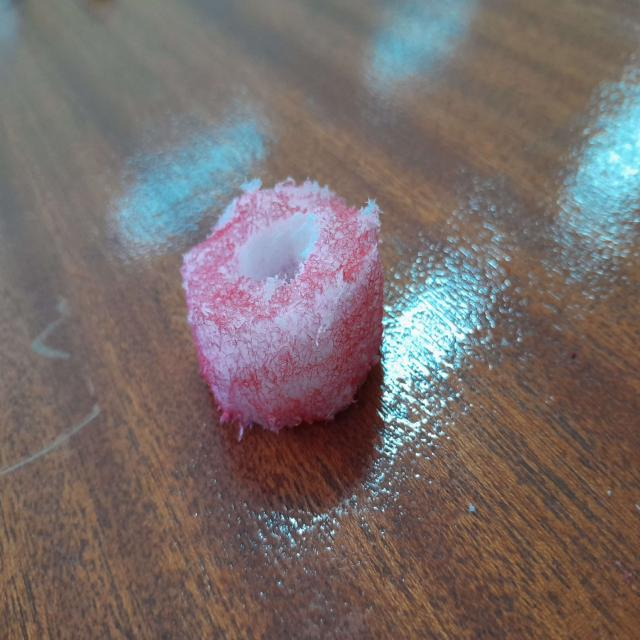wheel: (178, 161, 393, 441)
